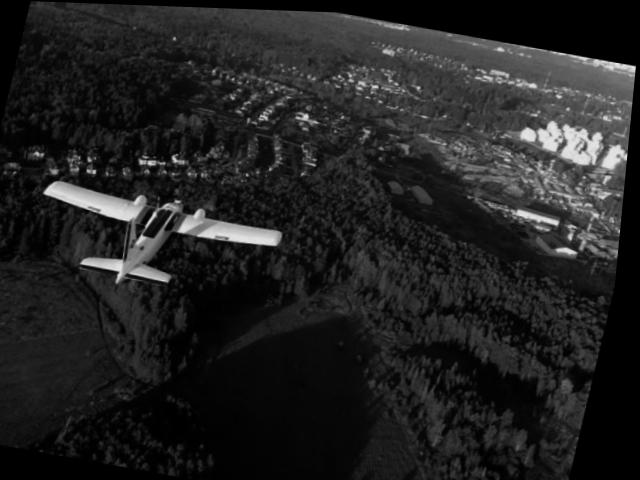hedef: (7, 156, 300, 320)
